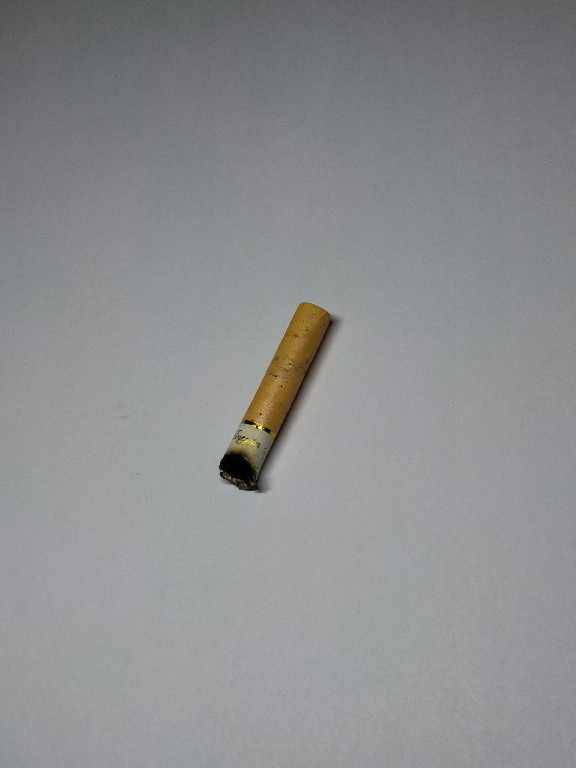cigarette: (216, 297, 335, 494)
